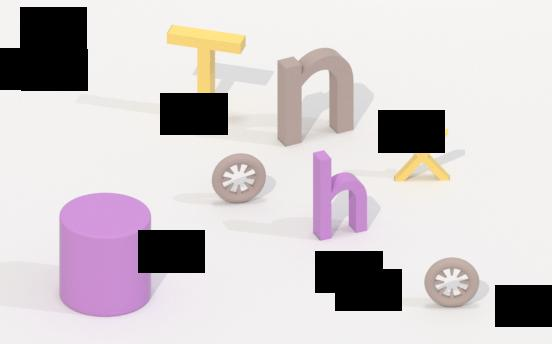h: (311, 146, 369, 249)
n: (275, 45, 357, 147)
t-hoa: (164, 19, 248, 124)
tron: (211, 149, 268, 208), (423, 254, 480, 309)
tru: (57, 189, 153, 320)
x: (393, 126, 453, 188)
